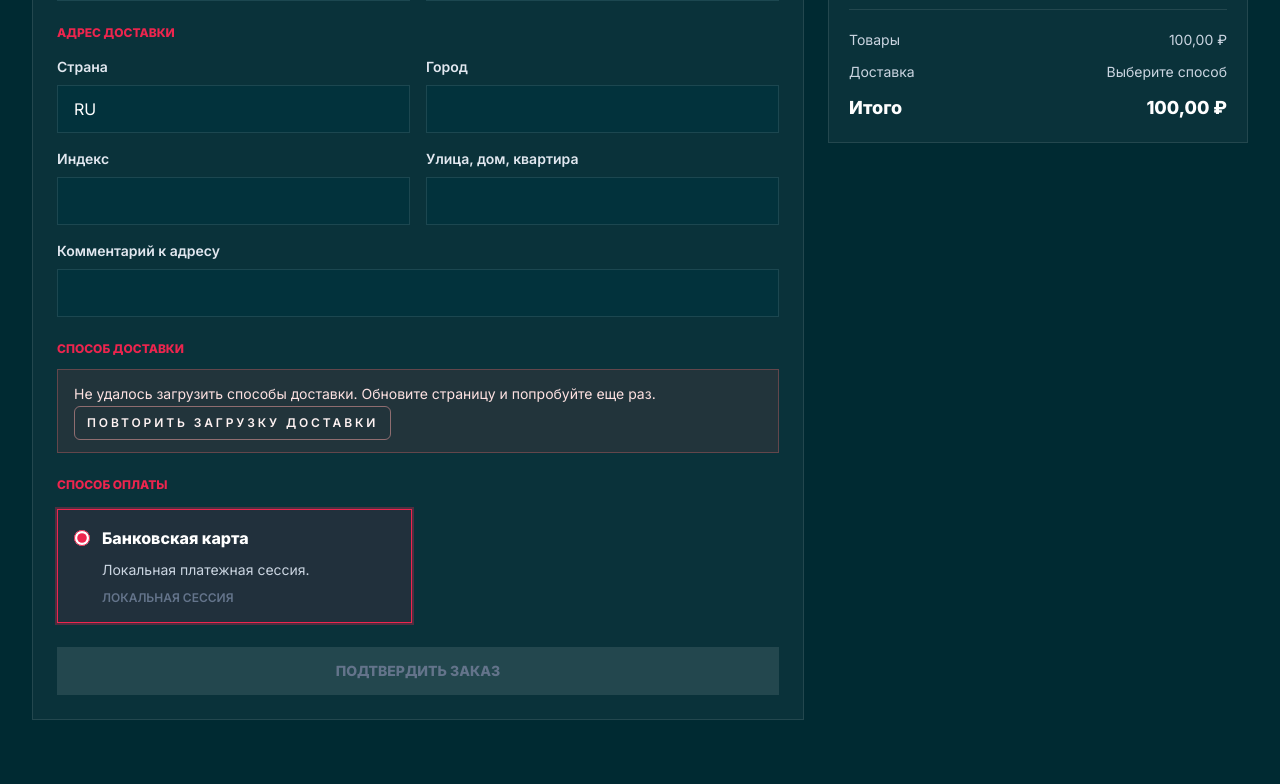
Test: CheckoutPage › retries delivery methods from the inline error action
(page scrolled)
Click the button "Повторить загрузку доставки" at (233,423), box [74,406,391,440]
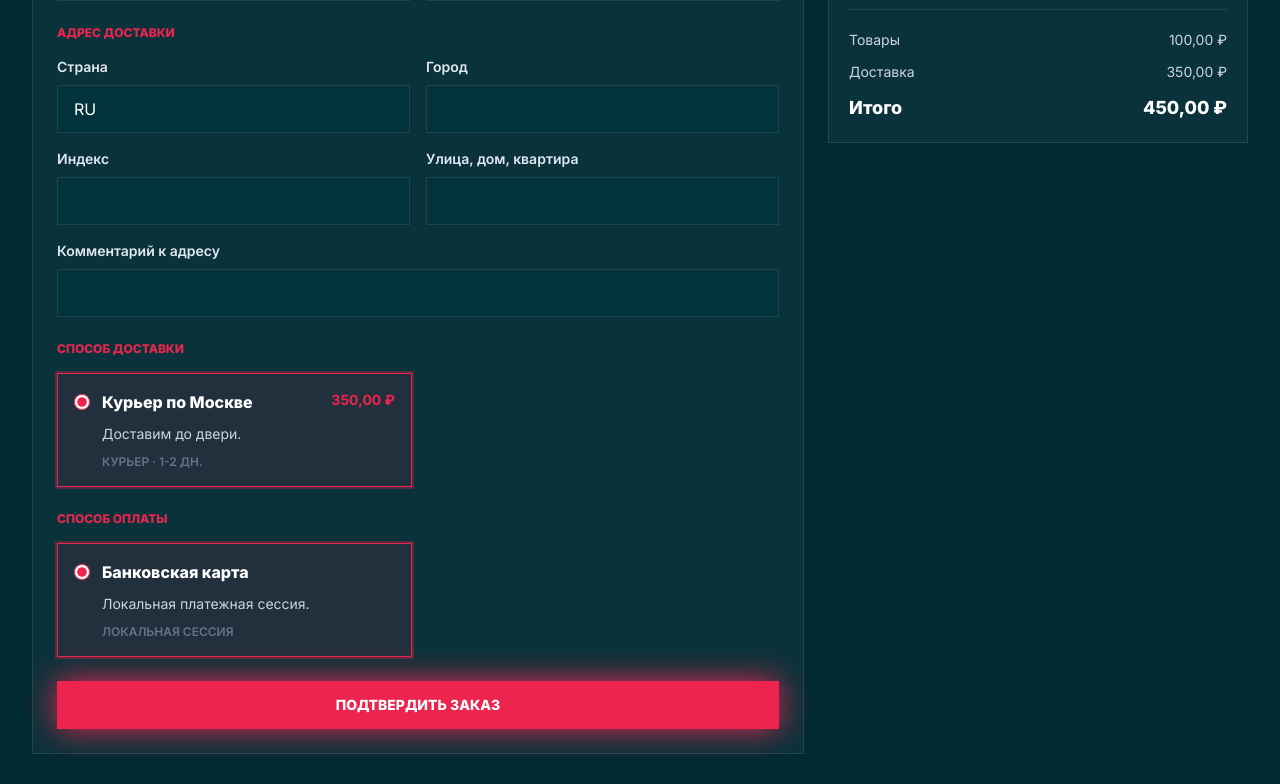
Now the radio button named "delivery-method" is shown, box [74,394,90,410]
